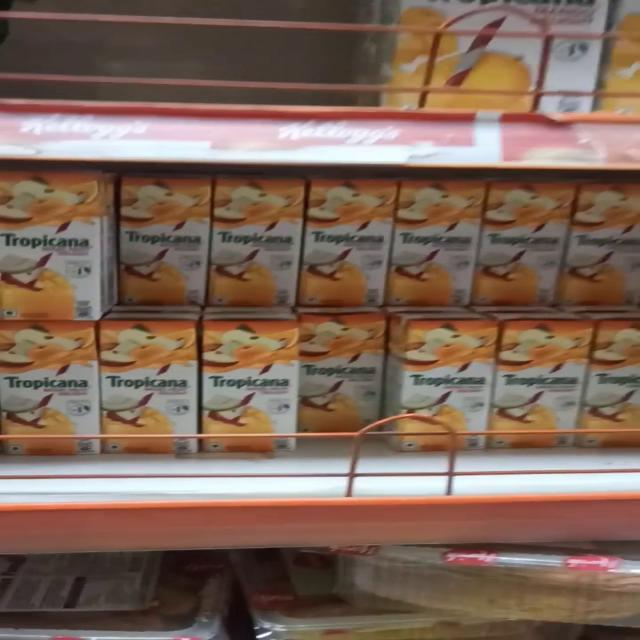Tropicana: (0, 154, 104, 316), (202, 308, 308, 452), (0, 320, 111, 452), (113, 165, 214, 304), (99, 317, 203, 448), (394, 171, 494, 304), (505, 314, 605, 446), (214, 160, 304, 302), (410, 311, 496, 446)
